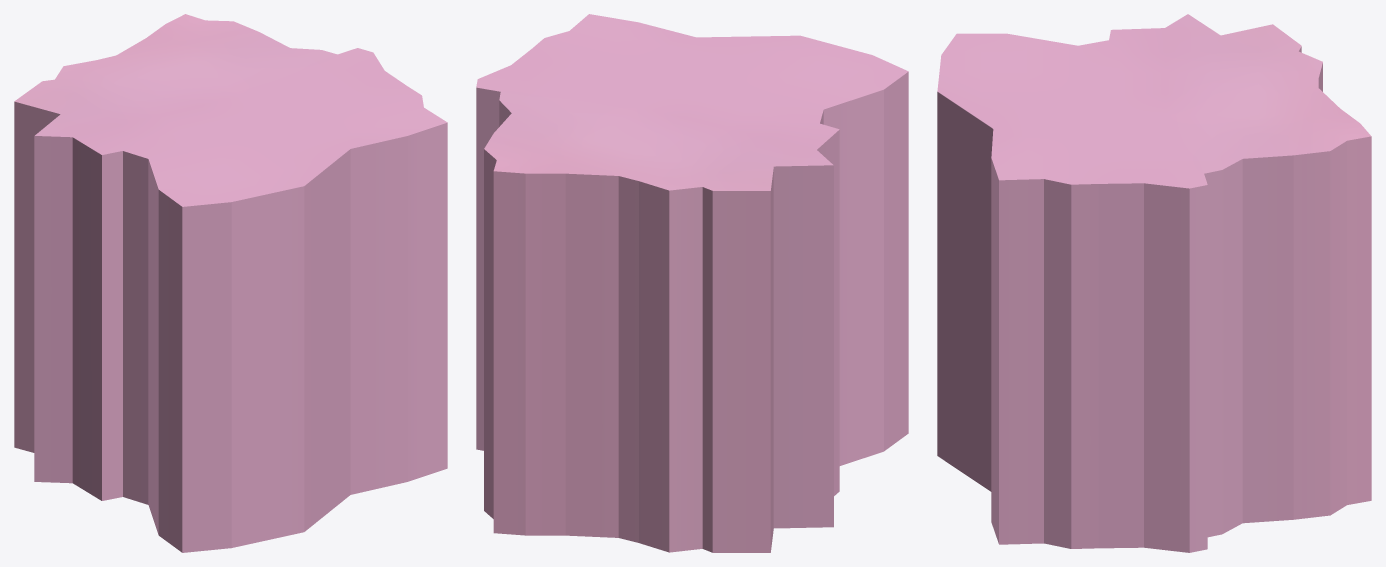
The model's file is west long branch.glb.
3 renders of one model, left to right at view 1: azimuth 30°, elevation 25°; view 2: azimuth 150°, elevation 25°; view 3: azimuth 270°, elevation 25°, orthographic. The views are drawn at different scales.
Visible parts, largest first — view 1: Plane.029; view 2: Plane.029; view 3: Plane.029.
Boxes of the visible parts, x1=… form: Plane.029: x1=14, y1=14, x2=447, y2=552; Plane.029: x1=476, y1=14, x2=908, y2=552; Plane.029: x1=937, y1=14, x2=1371, y2=552.
Bounding box in the file's own units: 0.3961 × 0.3856 × 0.4164.
Materials: 1 (1 with a texture image).
